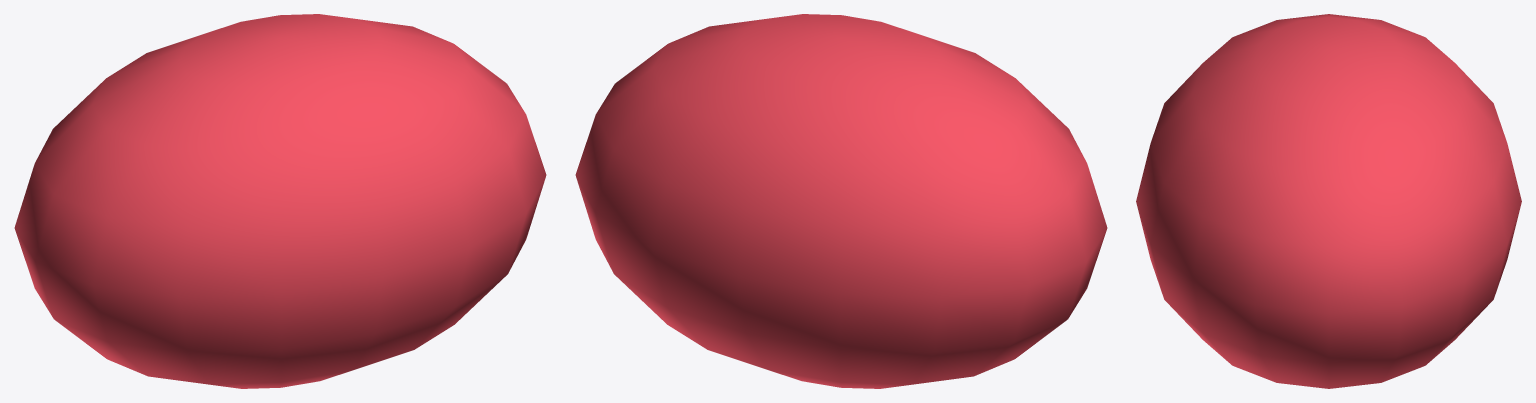
File: Candy_01.fbx
3 renders of one model, left to right at view 1: azimuth 30°, elevation 25°; view 2: azimuth 150°, elevation 25°; view 3: azimuth 270°, elevation 25°, orthographic. The views are drawn at different scales.
Visible parts, largest first — view 1: Candy_01_Mesh; view 2: Candy_01_Mesh; view 3: Candy_01_Mesh.
Part boxes in pixels (<box>): Candy_01_Mesh: <box>14,14,546,388</box>; Candy_01_Mesh: <box>575,14,1107,388</box>; Candy_01_Mesh: <box>1136,14,1521,388</box>.
Bounding box in the file's own units: 1.1 × 0.7 × 0.8.
